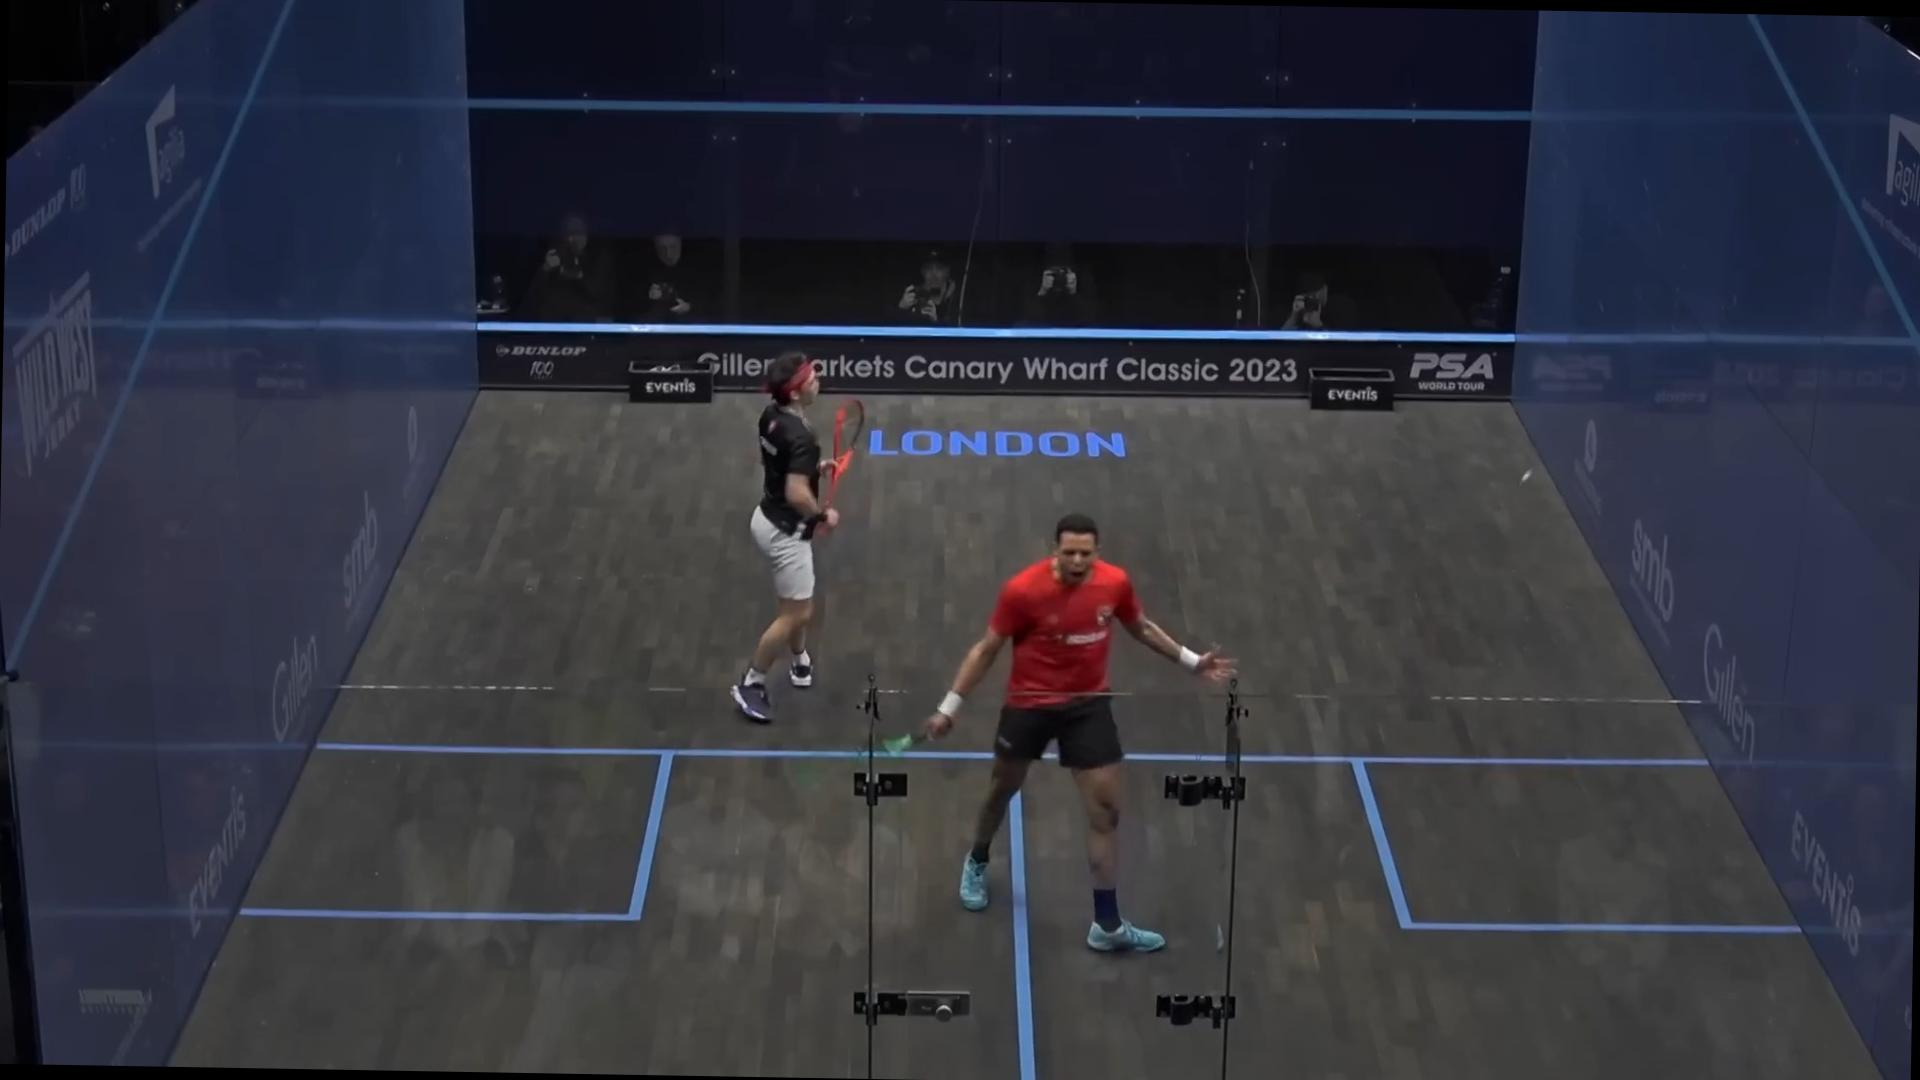Racket: (825, 390, 869, 520)
